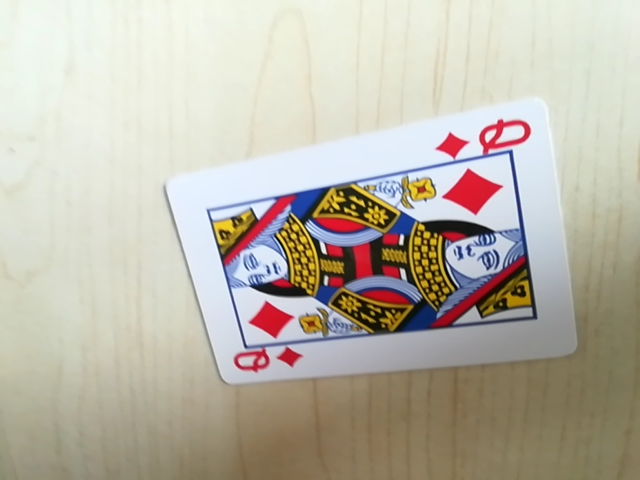fk q: (436, 114, 538, 163), (227, 341, 304, 384)
